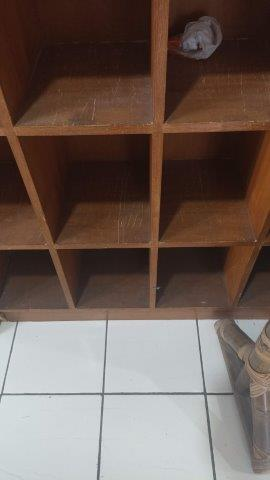plastik: (161, 15, 227, 64)
